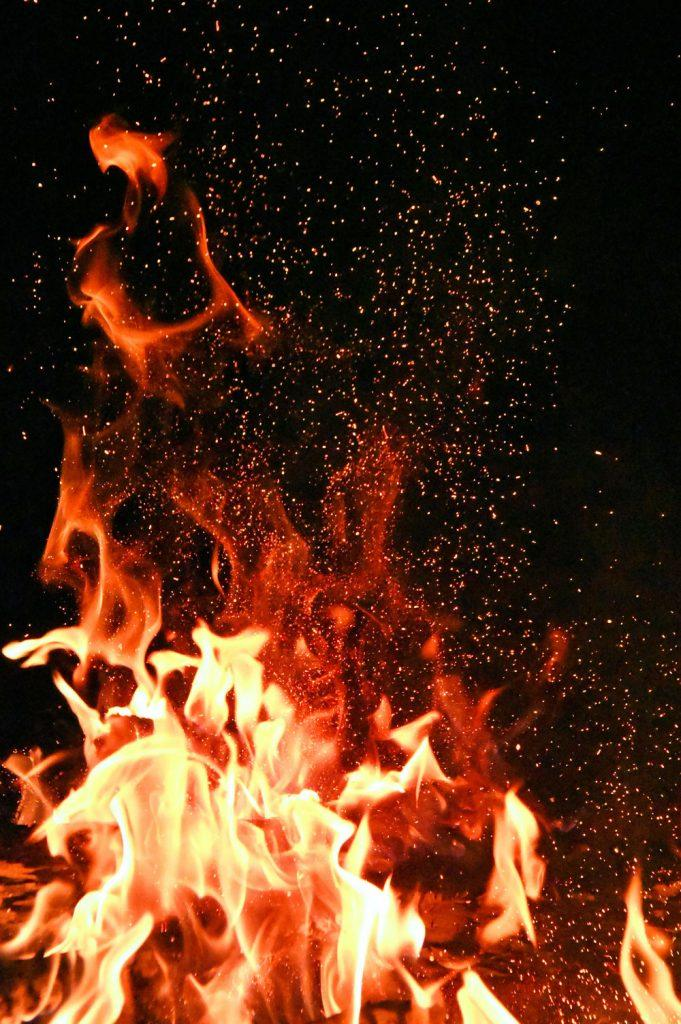fire: (27, 687, 430, 1024)
